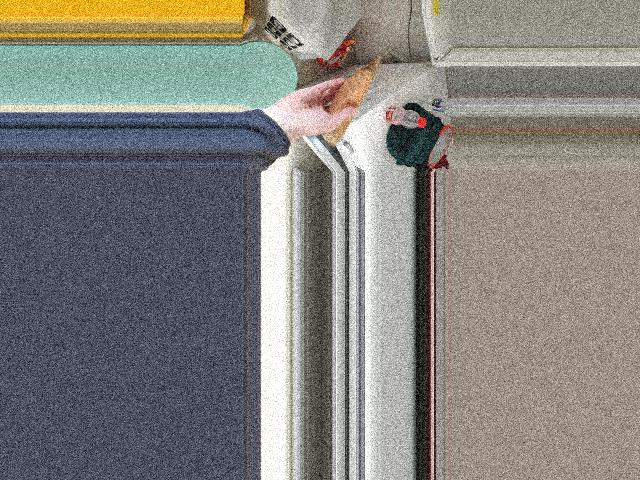sweet_potato: (328, 76, 374, 124)
